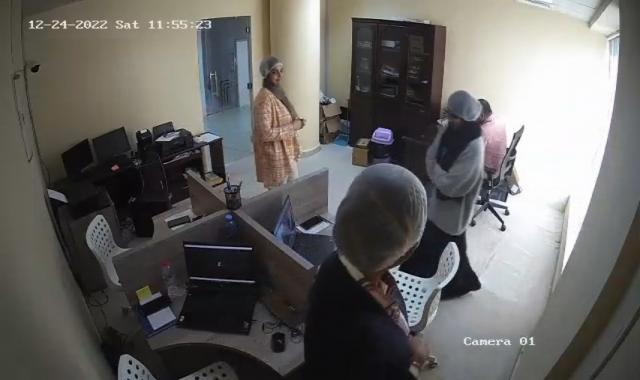hairnet: (330, 158, 429, 274), (445, 93, 481, 132), (258, 57, 284, 86)
